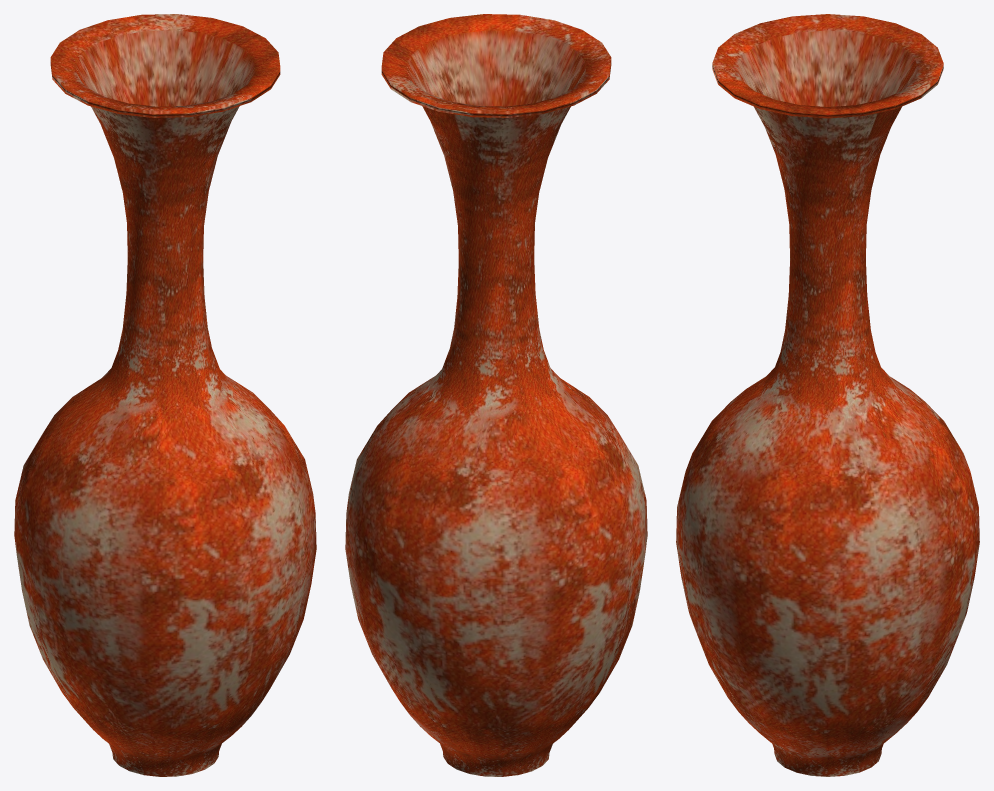
Rendered from kv54-vase8.glb.
3 views of the same model, side by side, from view 1: azimuth 30°, elevation 25°; view 2: azimuth 150°, elevation 25°; view 3: azimuth 270°, elevation 25° (orthographic).
Parts seen in each view (by area): view 1: pCylinder2; view 2: pCylinder2; view 3: pCylinder2.
Part boxes in pixels (x1=…): pCylinder2: x1=14, y1=14, x2=316, y2=776; pCylinder2: x1=345, y1=14, x2=647, y2=776; pCylinder2: x1=676, y1=14, x2=979, y2=776.
Size of the model in its own units: 0.0272 by 0.0685 by 0.0272.
1 material, 1 textured.
